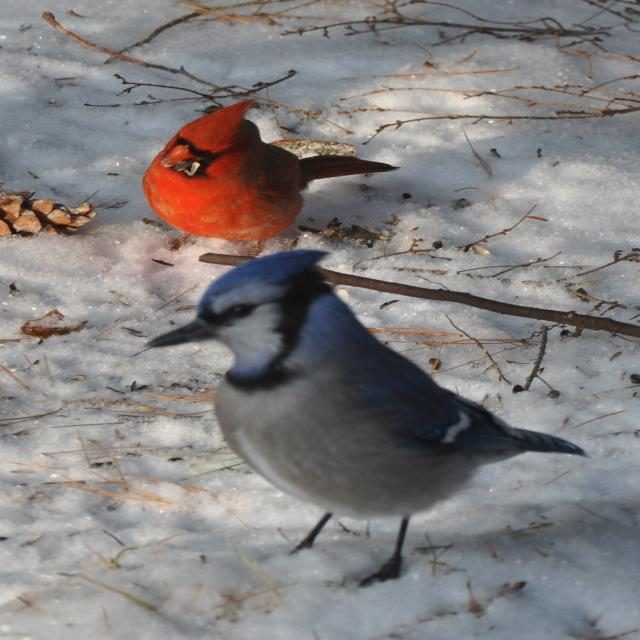bird: (148, 249, 567, 590), (147, 94, 410, 246)
